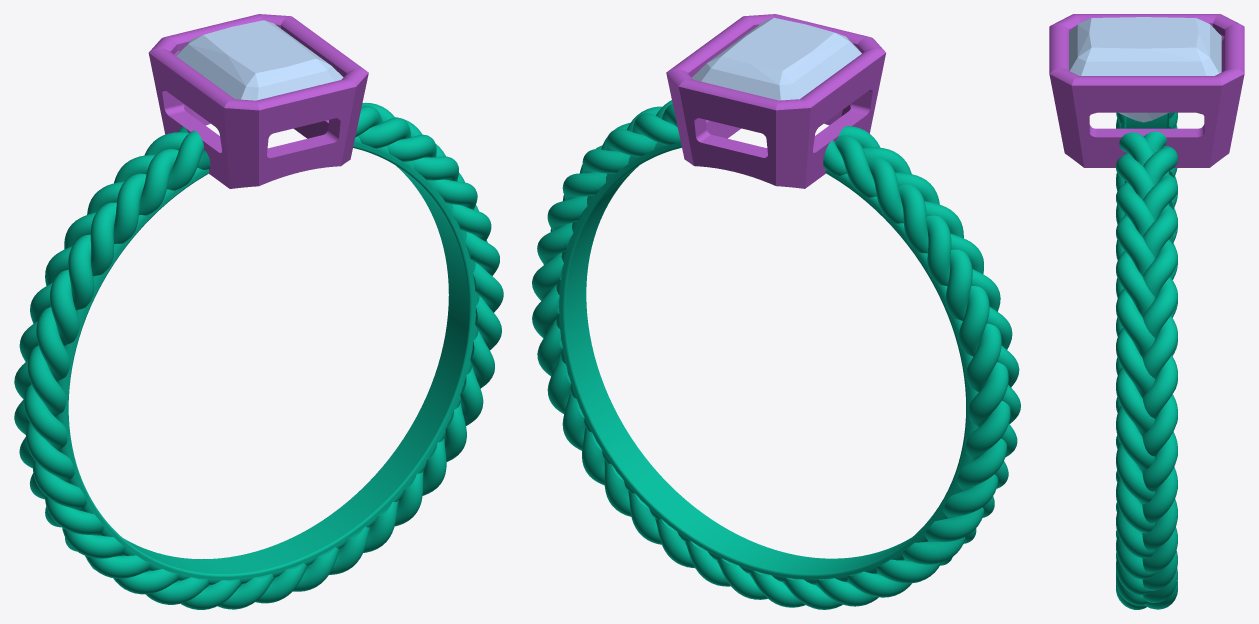
3 renders of one model, left to right at view 1: azimuth 30°, elevation 25°; view 2: azimuth 150°, elevation 25°; view 3: azimuth 270°, elevation 25°, orthographic.
Visible parts, largest first — view 1: COLOR= MATERIAL= (×4), Ref48_2.8grs_18kts_6usa_ct0,73esmeralda.3dm, Bezel, Diamond_Radiant; view 2: COLOR= MATERIAL= (×4), Ref48_2.8grs_18kts_6usa_ct0,73esmeralda.3dm, Bezel, Diamond_Radiant; view 3: COLOR= MATERIAL= (×4), Bezel, Diamond_Radiant, Ref48_2.8grs_18kts_6usa_ct0,73esmeralda.3dm.
Boxes of the visible parts, x1,y1,x2,y2 form: COLOR= MATERIAL= (×4): (14,102,503,609); Ref48_2.8grs_18kts_6usa_ct0,73esmeralda.3dm: (55,136,479,585); Bezel: (148,14,368,188); Diamond_Radiant: (176,20,343,100); COLOR= MATERIAL= (×4): (532,100,1020,609); Ref48_2.8grs_18kts_6usa_ct0,73esmeralda.3dm: (556,141,978,584); Bezel: (666,14,885,188); Diamond_Radiant: (692,18,861,100); COLOR= MATERIAL= (×4): (1116,112,1177,609); Bezel: (1049,14,1244,167); Diamond_Radiant: (1069,17,1221,122); Ref48_2.8grs_18kts_6usa_ct0,73esmeralda.3dm: (1124,113,1169,239).
Size of the model in its own units: 2.6 by 2.9 by 0.929.
